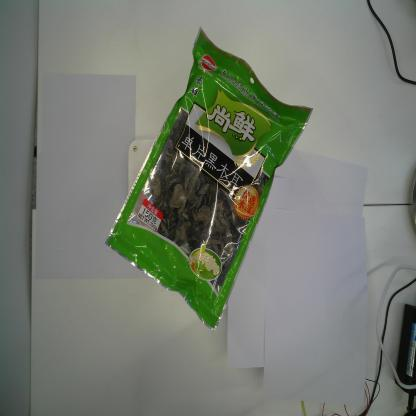Dried Food: (105, 24, 314, 332)
